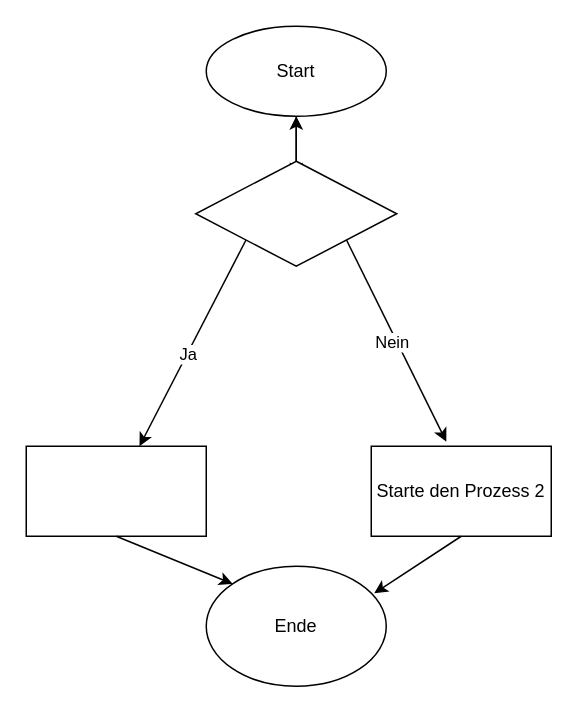
This 578x713 diagram has some shape labels left out. Each missing label, with the box of its shape:
Ist der Zähler grösser als 1?: (194, 160, 397, 266)
Starte den Prozess 1: (25, 445, 206, 536)
